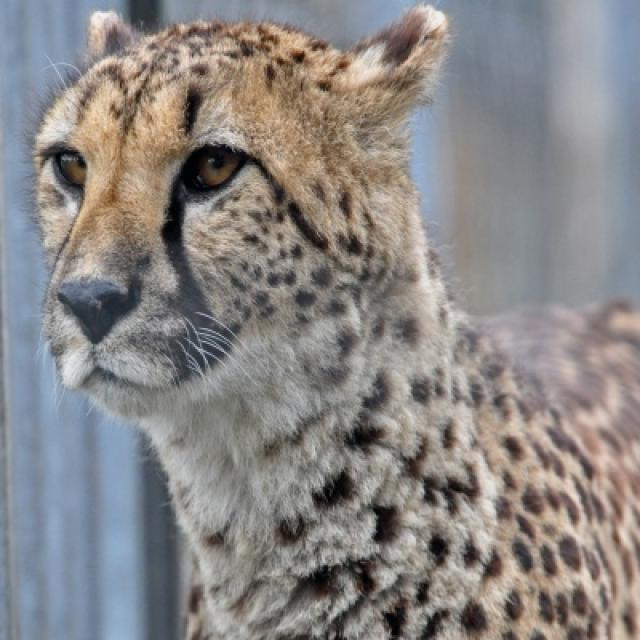Cheetah: (32, 5, 638, 638)
